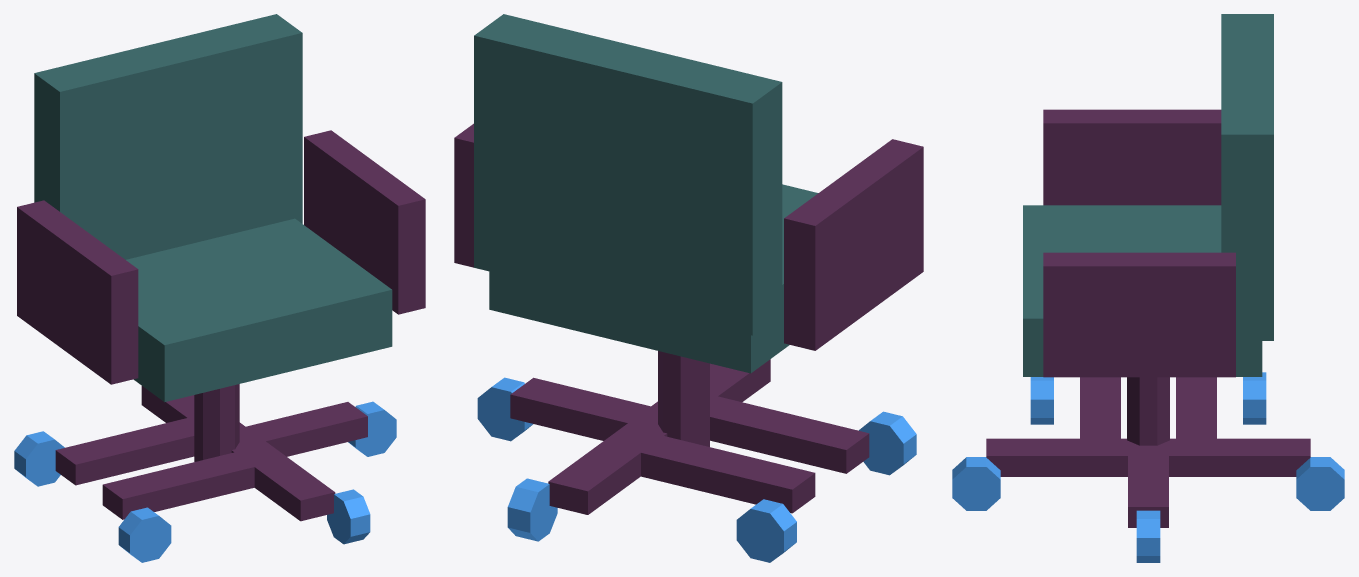
Rendered from chair.obj.
The picture shows the model from 3 angles, left to right: view 1: azimuth 30°, elevation 25°; view 2: azimuth 150°, elevation 25°; view 3: azimuth 270°, elevation 25°; orthographic projection. The views are drawn at different scales.
Parts seen in each view (by area): view 1: soft-back-cushion, rounded-seat-cushion, left-arm, right-arm, star-base-spoke-3, star-base-spoke-4, star-base-spoke-1, star-base-spoke-2, center-lift, tiny-castor-3, tiny-castor-4, tiny-castor-2 (+2 smaller); view 2: soft-back-cushion, left-arm, rounded-seat-cushion, star-base-spoke-4, star-base-spoke-3, star-base-spoke-1, star-base-spoke-5, center-lift, tiny-castor-4, right-arm, tiny-castor-3, tiny-castor-5 (+2 smaller); view 3: right-arm, left-arm, soft-back-cushion, rounded-seat-cushion, star-base-spoke-2, star-base-spoke-5, star-base-spoke-1, center-lift, star-base-spoke-3, star-base-spoke-4, tiny-castor-2, tiny-castor-5 (+3 smaller).
Part boxes in pixels (x1=…): soft-back-cushion: x1=34, y1=14, x2=302, y2=259; rounded-seat-cushion: x1=126, y1=218, x2=392, y2=402; left-arm: x1=17, y1=200, x2=138, y2=384; right-arm: x1=304, y1=130, x2=425, y2=314; star-base-spoke-3: x1=102, y1=449, x2=265, y2=519; star-base-spoke-4: x1=55, y1=418, x2=194, y2=485; star-base-spoke-1: x1=236, y1=402, x2=367, y2=456; star-base-spoke-2: x1=231, y1=441, x2=335, y2=521; center-lift: x1=194, y1=384, x2=239, y2=461; tiny-castor-3: x1=118, y1=507, x2=171, y2=562; tiny-castor-4: x1=14, y1=431, x2=64, y2=486; tiny-castor-2: x1=327, y1=489, x2=370, y2=544; soft-back-cushion: x1=474, y1=14, x2=782, y2=335; left-arm: x1=784, y1=139, x2=923, y2=350; rounded-seat-cushion: x1=489, y1=184, x2=818, y2=373; star-base-spoke-4: x1=628, y1=433, x2=815, y2=513; star-base-spoke-3: x1=710, y1=396, x2=869, y2=473; star-base-spoke-1: x1=510, y1=377, x2=662, y2=440; star-base-spoke-5: x1=548, y1=423, x2=667, y2=514; center-lift: x1=658, y1=351, x2=709, y2=446; tiny-castor-4: x1=736, y1=499, x2=796, y2=562; right-arm: x1=454, y1=123, x2=473, y2=267; tiny-castor-3: x1=859, y1=411, x2=916, y2=475; tiny-castor-5: x1=507, y1=478, x2=557, y2=541; right-arm: x1=1043, y1=252, x2=1235, y2=377; left-arm: x1=1043, y1=109, x2=1221, y2=205; soft-back-cushion: x1=1221, y1=14, x2=1273, y2=340; rounded-seat-cushion: x1=1023, y1=205, x2=1262, y2=376; star-base-spoke-2: x1=986, y1=438, x2=1152, y2=476; star-base-spoke-5: x1=1158, y1=438, x2=1310, y2=476; star-base-spoke-1: x1=1128, y1=441, x2=1168, y2=527; center-lift: x1=1127, y1=377, x2=1169, y2=445; star-base-spoke-3: x1=1080, y1=377, x2=1120, y2=438; star-base-spoke-4: x1=1176, y1=377, x2=1216, y2=438; tiny-castor-2: x1=952, y1=457, x2=1000, y2=510; tiny-castor-5: x1=1296, y1=457, x2=1344, y2=510.
Size of the model in its own units: 1.34 by 1.54 by 1.35.
